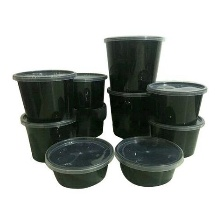plastic_box: (99, 29, 170, 96), (110, 131, 188, 191), (40, 133, 119, 192), (9, 64, 80, 124), (142, 75, 211, 129), (17, 107, 79, 166), (104, 80, 159, 141), (143, 110, 209, 160), (54, 99, 110, 139), (57, 68, 109, 103)
